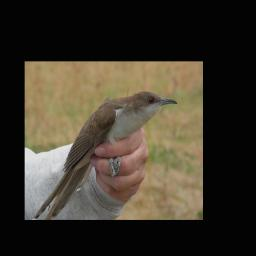Cuckoo: (34, 90, 178, 219)
